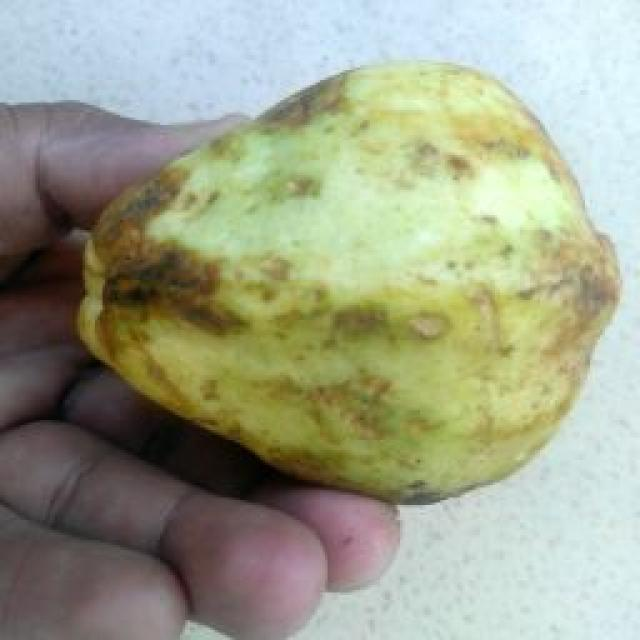Bad_Guava: (79, 62, 620, 501)
